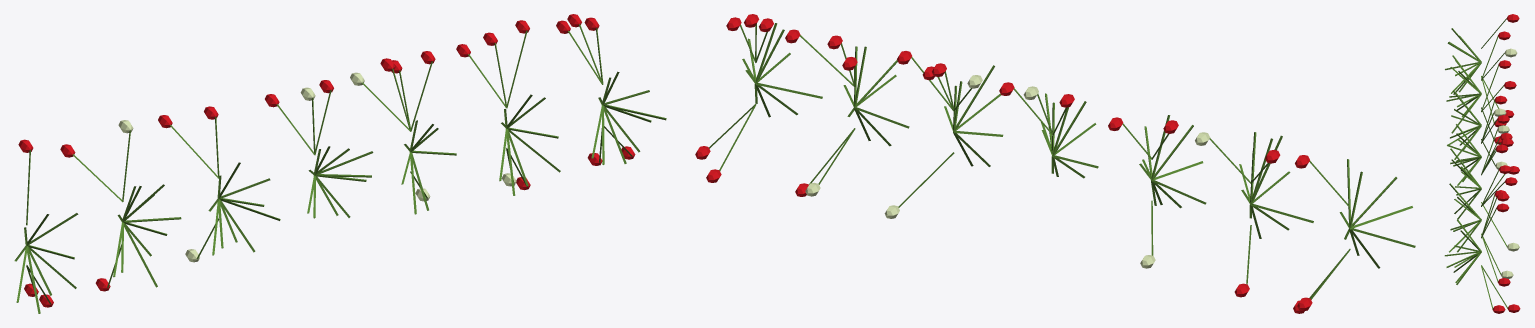
File: r29c2_rest.obj
3 renders of one model, left to right at view 1: azimuth 30°, elevation 25°; view 2: azimuth 150°, elevation 25°; view 3: azimuth 270°, elevation 25°, orthographic. The views are drawn at different scales.
Visible parts, largest first — view 1: r29c2_rest; view 2: r29c2_rest; view 3: r29c2_rest.
Part boxes in pixels (x1,y1,x2,y2): r29c2_rest: [14, 14, 666, 313]; r29c2_rest: [695, 14, 1415, 313]; r29c2_rest: [1444, 14, 1520, 313].
Bounding box in the file's own units: 1.71 × 0.4058 × 0.2546.
